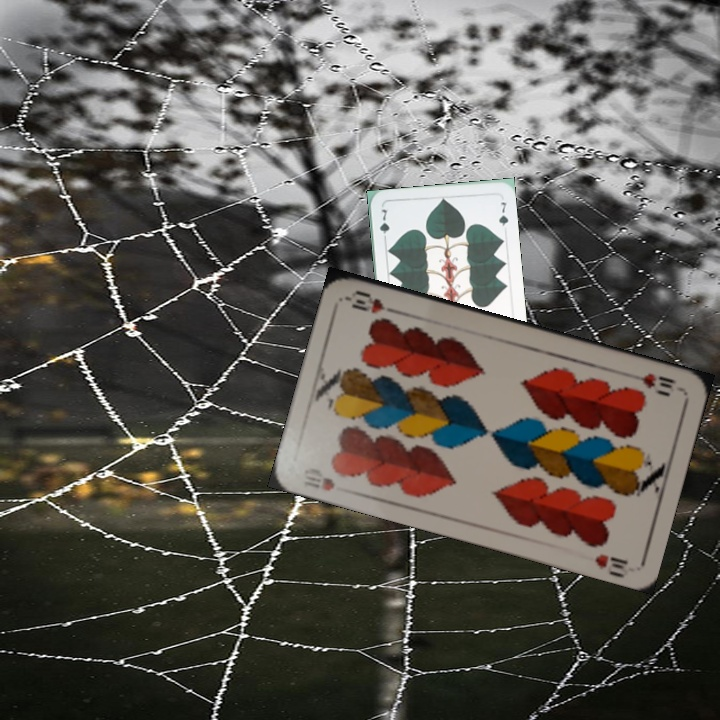G7: (375, 205, 392, 245)
H10: (625, 369, 679, 391), (299, 473, 338, 494)
